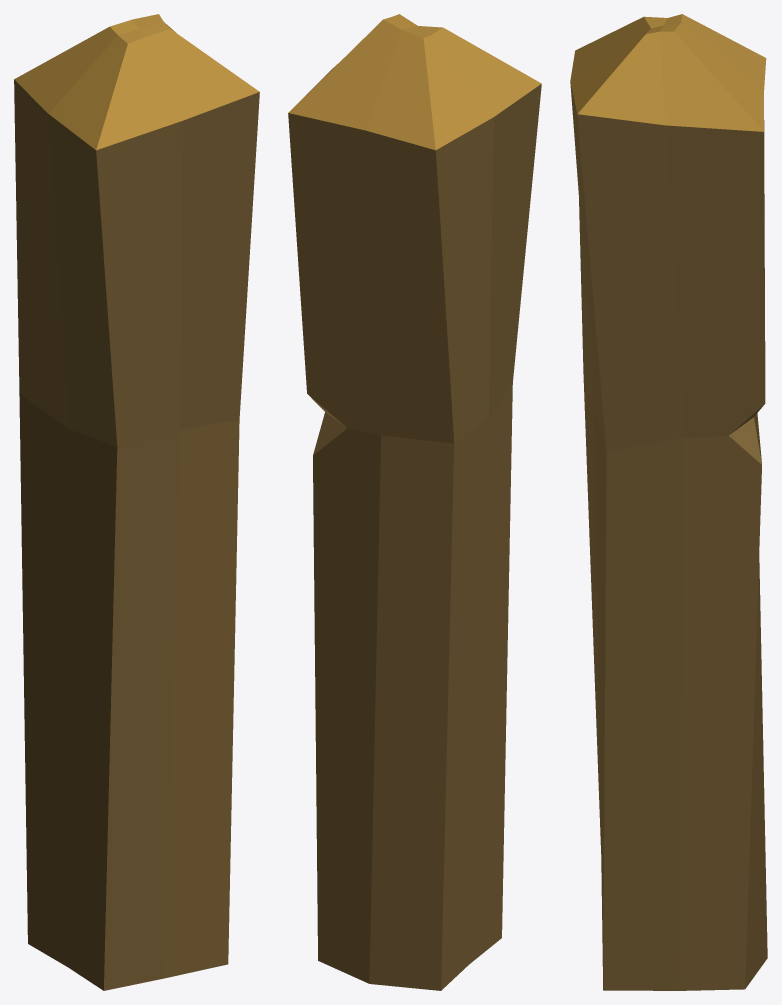
The model's file is fence_post.glb.
3 renders of one model, left to right at view 1: azimuth 30°, elevation 25°; view 2: azimuth 150°, elevation 25°; view 3: azimuth 270°, elevation 25°, orthographic. The views are drawn at different scales.
Visible parts, largest first — view 1: Cube.007; view 2: Cube.007; view 3: Cube.007.
Part boxes in pixels (x1,y1,x2,y2): Cube.007: (14, 14, 259, 990); Cube.007: (288, 14, 541, 990); Cube.007: (570, 14, 767, 990).
Size of the model in its own units: 0.2045 by 1.09 by 0.2075.
